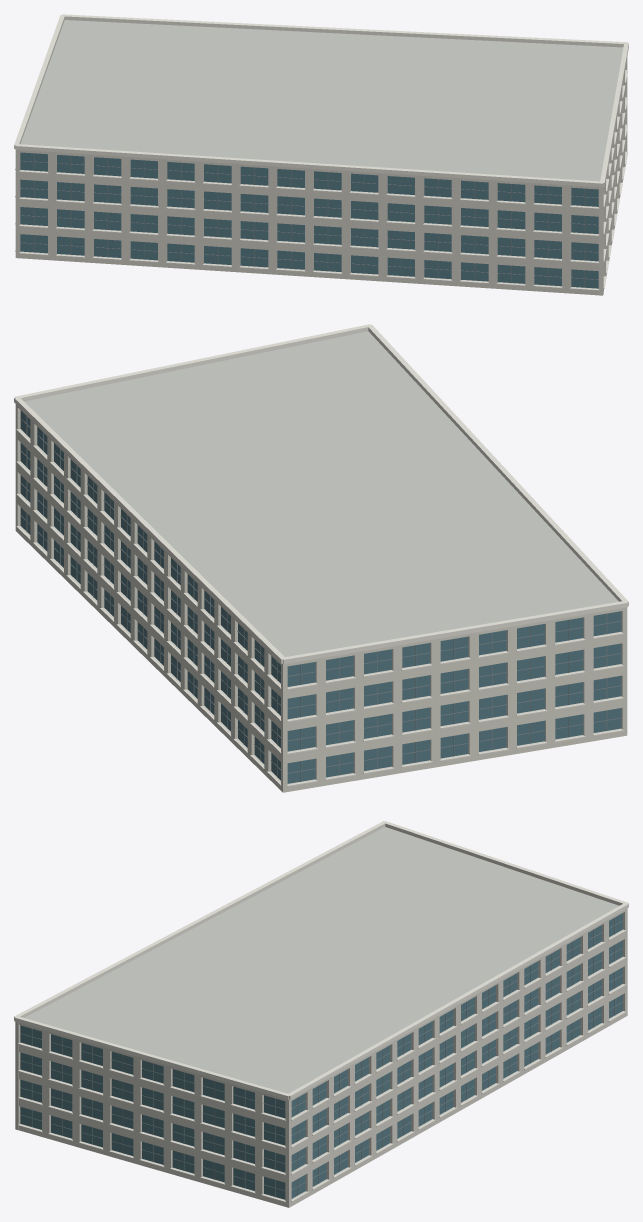
3 views of the same model, one above another, from view 1: azimuth 30°, elevation 25°; view 2: azimuth 150°, elevation 25°; view 3: azimuth 270°, elevation 25° (orthographic). The views are drawn at different scales.
Visible parts, largest first — view 1: roof, wall, glass, trim, metal; view 2: roof, wall, glass, trim, metal; view 3: roof, wall, glass, trim, metal.
Part boxes in pixels (box(x1,y1,x2,y2)): roof: box(20, 20, 623, 181); wall: box(15, 57, 627, 295); glass: box(20, 152, 598, 288); trim: box(14, 14, 628, 290); metal: box(20, 153, 598, 287); roof: box(24, 331, 618, 656); wall: box(15, 404, 627, 792); glass: box(20, 410, 621, 783); trim: box(14, 324, 628, 786); metal: box(20, 416, 621, 781); roof: box(24, 827, 619, 1093); wall: box(15, 908, 627, 1207); glass: box(20, 913, 622, 1199); trim: box(14, 821, 628, 1202); metal: box(20, 917, 623, 1197).
Size of the model in its own units: 68.53 by 13.04 by 64.72.
